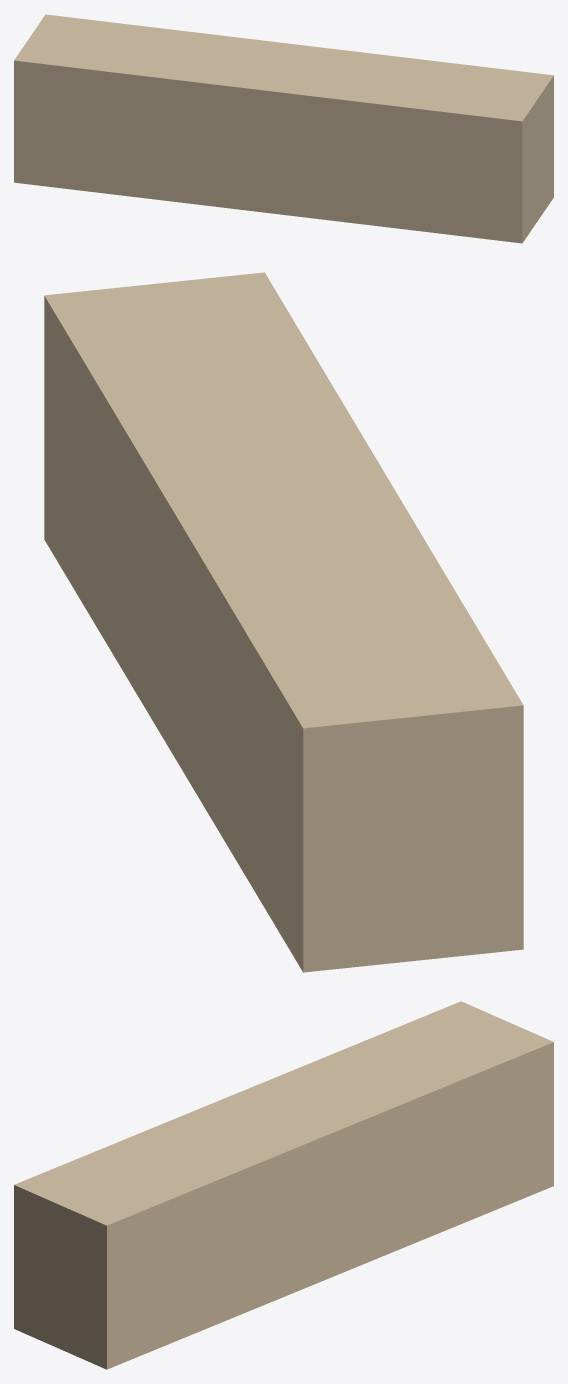
Rendered from -20_-3-estimated-coarse.glb.
3 views of the same model, one above another, from view 1: azimuth 30°, elevation 25°; view 2: azimuth 150°, elevation 25°; view 3: azimuth 270°, elevation 25° (orthographic). The views are drawn at different scales.
Bounding box in the file's own units: 40.1 × 12 × 40.77.
